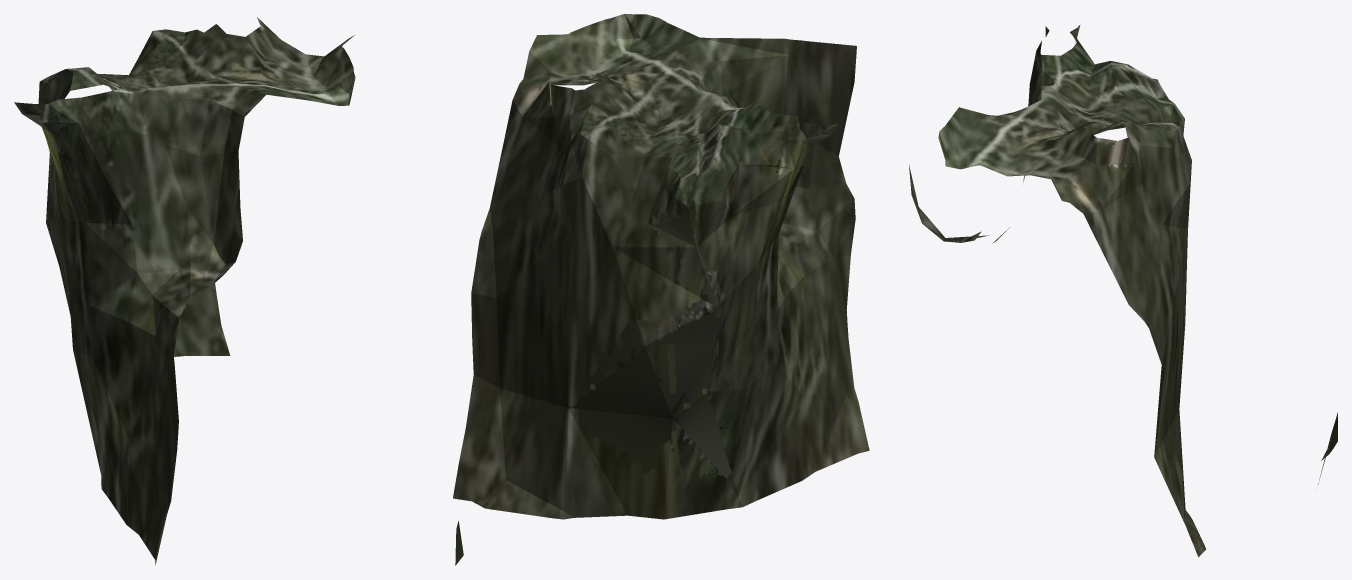
3 views of the same model, side by side, from view 1: azimuth 30°, elevation 25°; view 2: azimuth 150°, elevation 25°; view 3: azimuth 270°, elevation 25° (orthographic). The views are drawn at different scales.
Bounding box in the file's own units: 2.43 × 2.95 × 2.95.
Materials: 4 (4 with a texture image).
